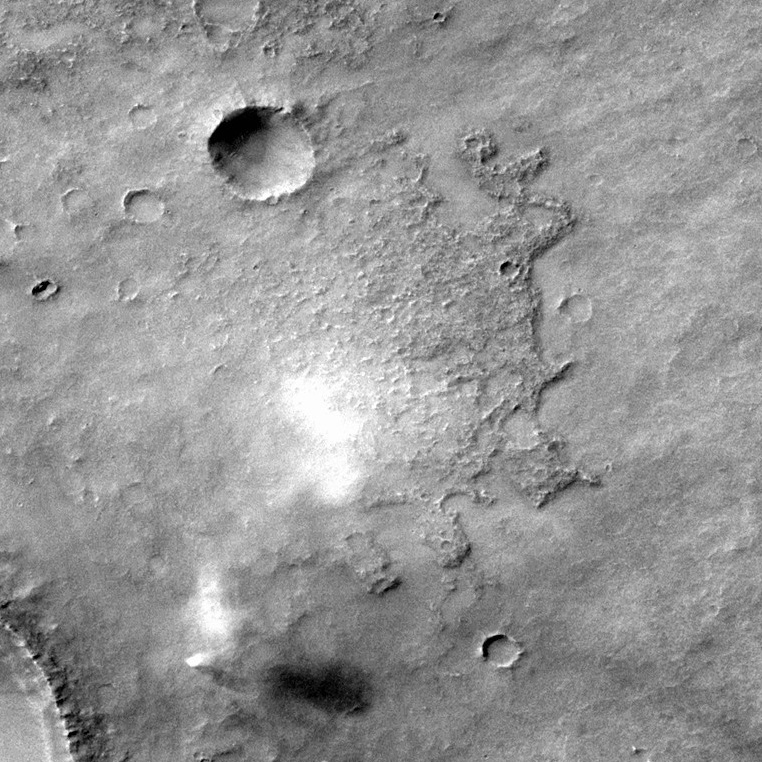dust_devil: (180, 579, 377, 718)
